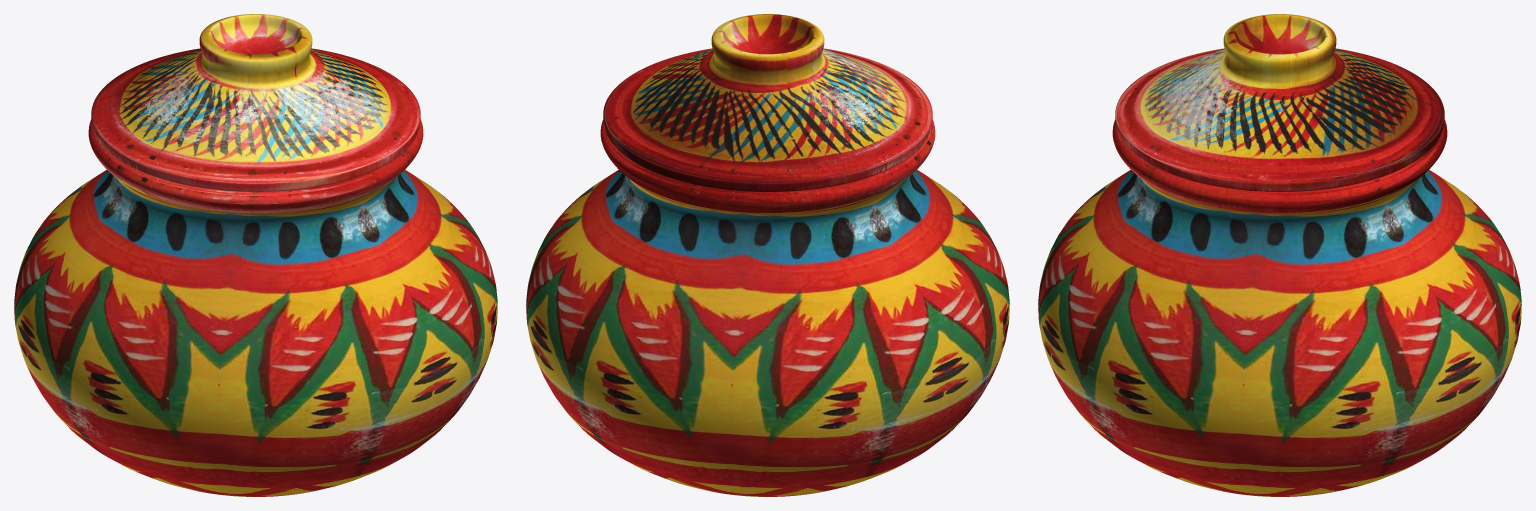
The model's file is shokher_hari.glb.
The picture shows the model from 3 angles, left to right: view 1: azimuth 30°, elevation 25°; view 2: azimuth 150°, elevation 25°; view 3: azimuth 270°, elevation 25°; orthographic projection.
Parts seen in each view (by area): view 1: Circle.001; view 2: Circle.001; view 3: Circle.001.
Boxes of the visible parts, x1,y1,x2,y2 form: Circle.001: (14, 14, 497, 496); Circle.001: (526, 14, 1009, 496); Circle.001: (1038, 14, 1521, 496).
Bounding box in the file's own units: 2.23 × 2.2 × 2.23.
2 materials, 2 textured.
